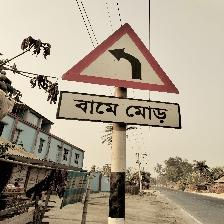Left-Turn: (55, 21, 181, 130)
